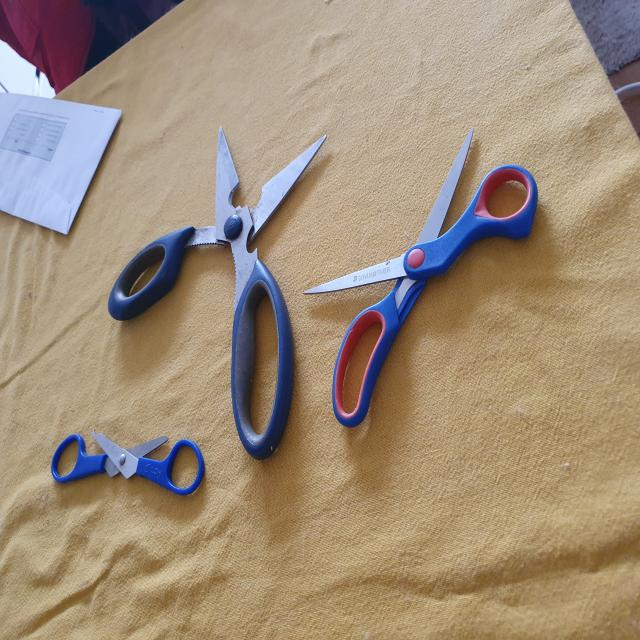scissors: (108, 125, 327, 458), (308, 126, 542, 426), (48, 428, 205, 500)
